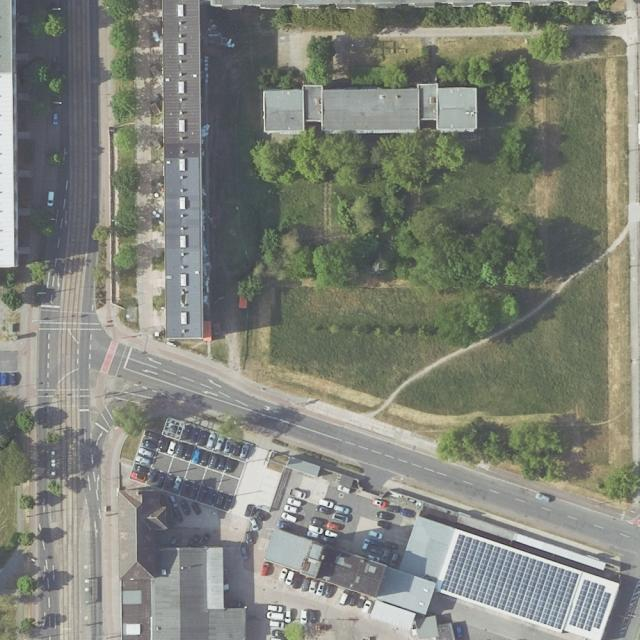PV: (440, 534, 579, 630), (568, 579, 611, 631)
